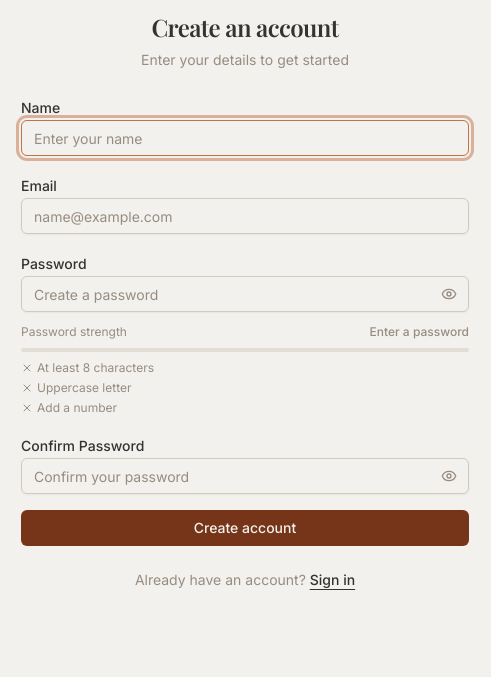
RegisterForm › submission › handles network errors gracefully
Type "John Doe" into the field labelled "Name" at (245, 138), box [21,120,469,156]
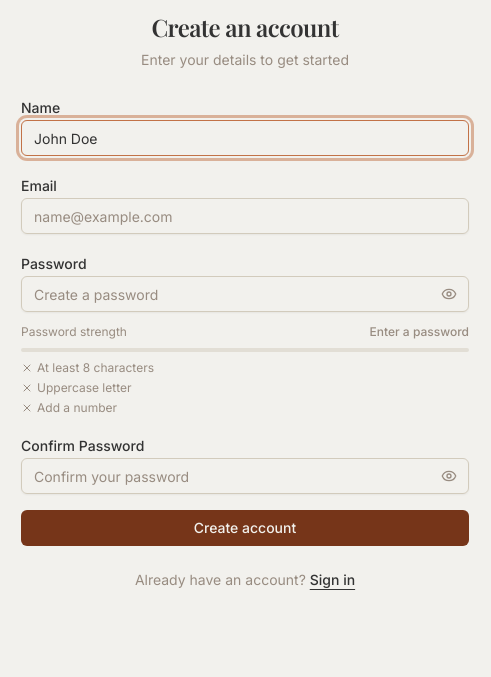
Type "john@example.com" into the field labelled "Email" at (245, 216), box [21,198,469,234]
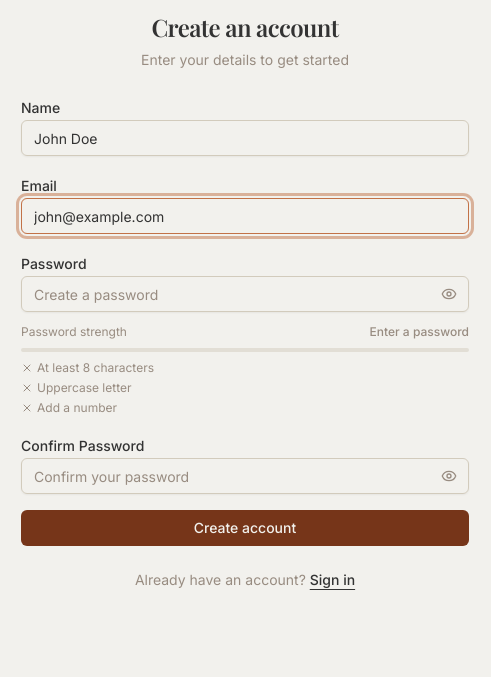
Type "StrongPass123!" into the password field labelled "Password" at (245, 294), box [21,276,469,312]
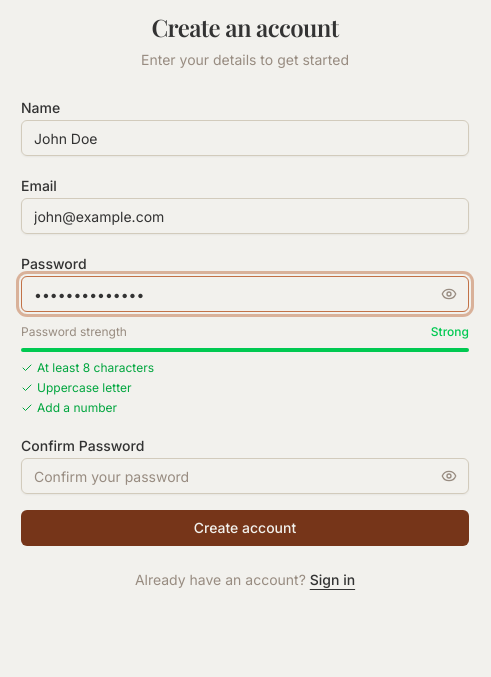
Type "StrongPass123!" into the password field labelled "Confirm Password" at (245, 476), box [21,458,469,494]
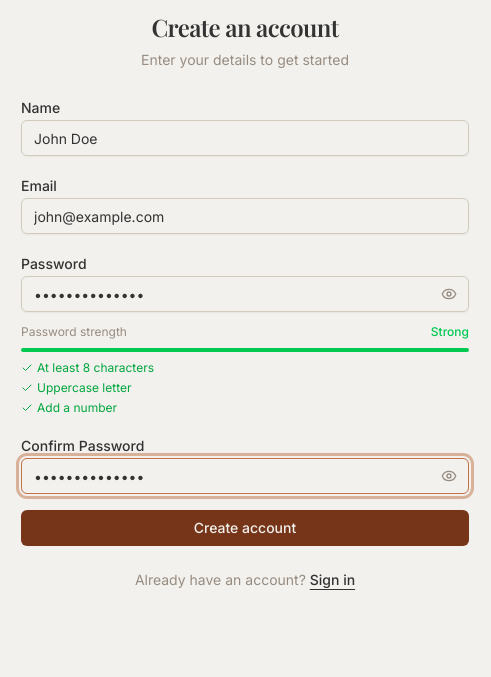
Click the button "Create account" at (245, 528), box [21,510,469,546]
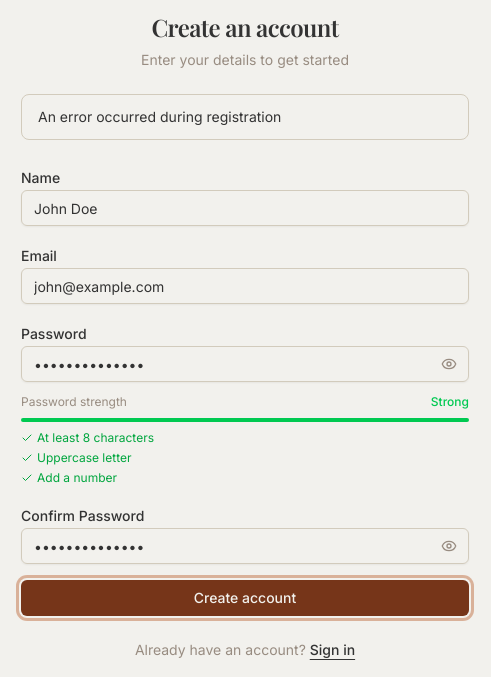
Now the text "An error occurred during registration" is shown, box [38,108,281,125]
